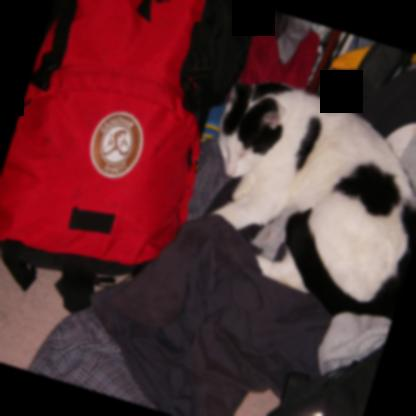backpack: (0, 0, 251, 269)
